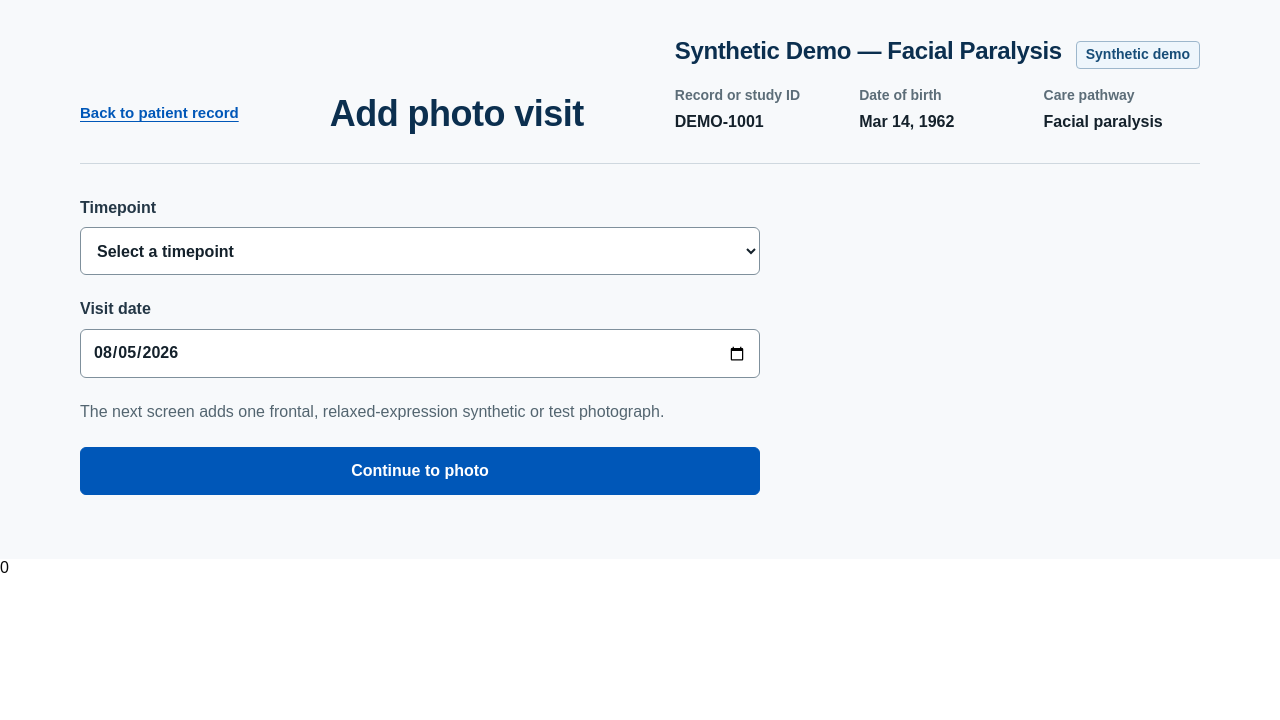
NewPatientVisitPage › shows patient identity and blocks a missing timepoint and future visit date
Check: the heading "Add photo visit" is shown, box [330,93,584,135]
Check: the element named "Patient identity" shows "Synthetic Demo — Facial Paralysis", box [675,37,1062,64]
Type "2099-01-01" into the date field labelled "Visit date".
click(420, 354); type("2099-01-01")  # box [80,329,760,378]
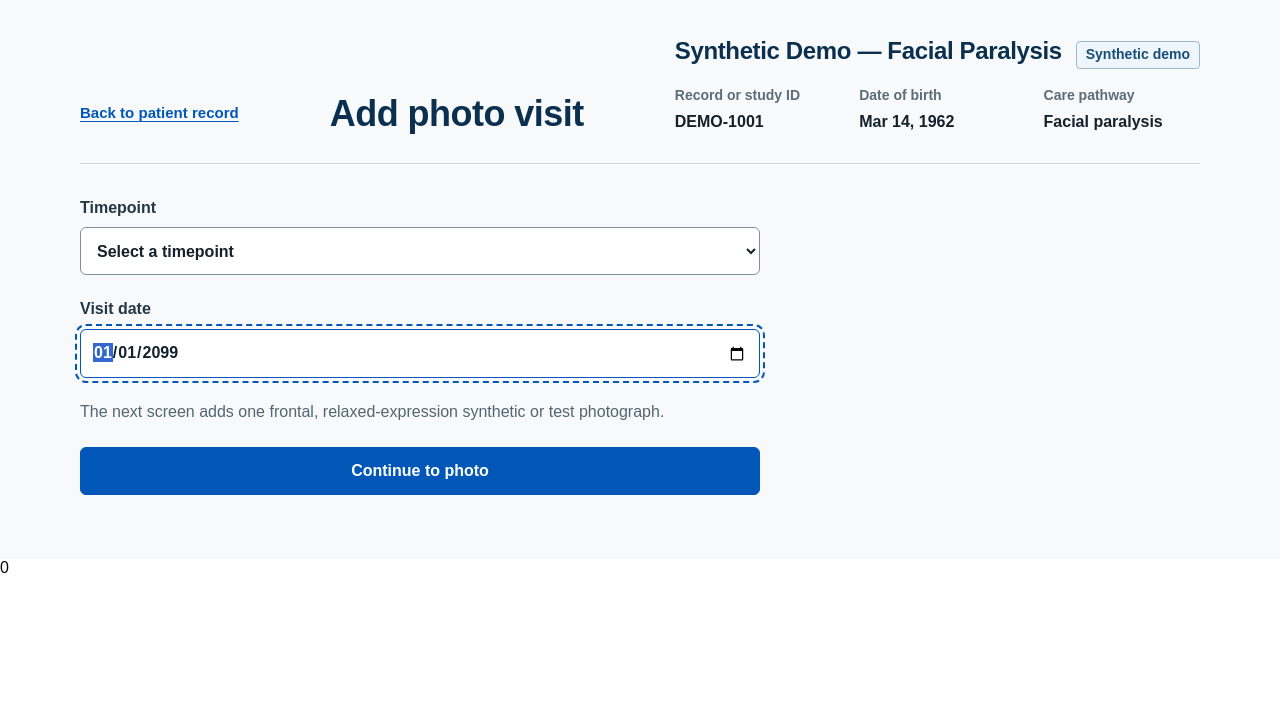
Click the button "Continue to photo".
click(420, 471)  # box [80,447,760,495]
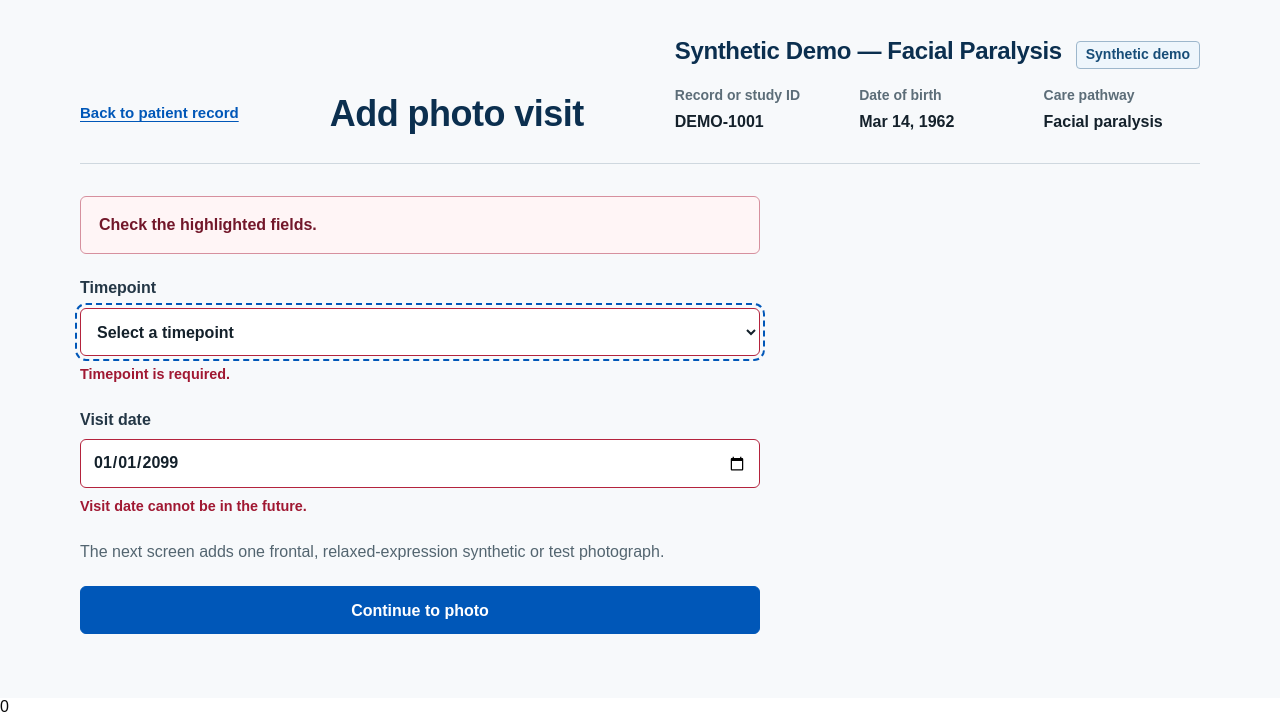
Check: the message reads "Check the highlighted fields.", box [99,216,317,233]
Check: the text "Timepoint is required." is shown, box [80,366,230,382]
Check: the text "Visit date cannot be in the future." is shown, box [80,498,307,514]
